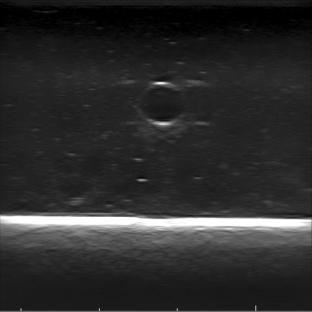vessel: (134, 81, 188, 128)
